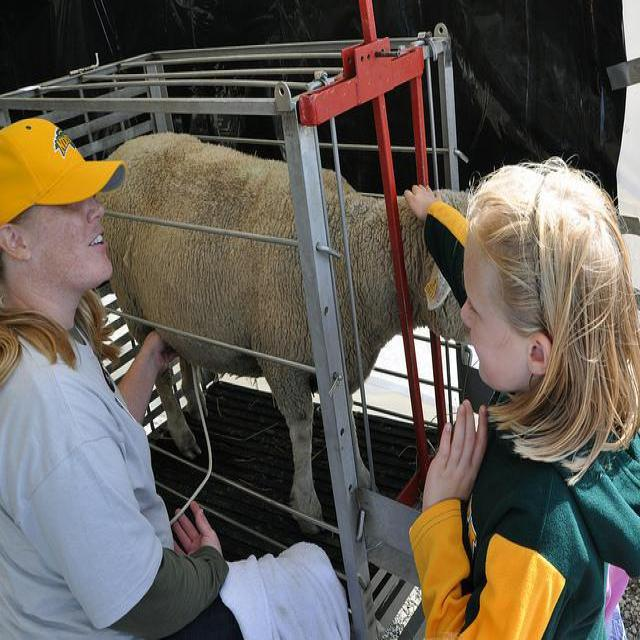Sheep: (96, 131, 477, 539)
